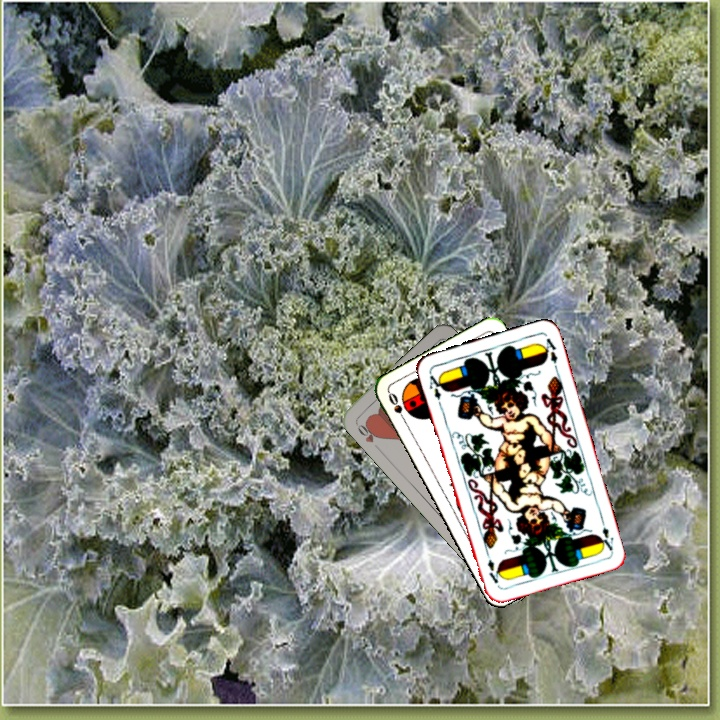EA: (425, 368, 447, 408), (595, 514, 616, 554)
HO: (352, 418, 383, 452)
SO: (384, 388, 409, 426)
